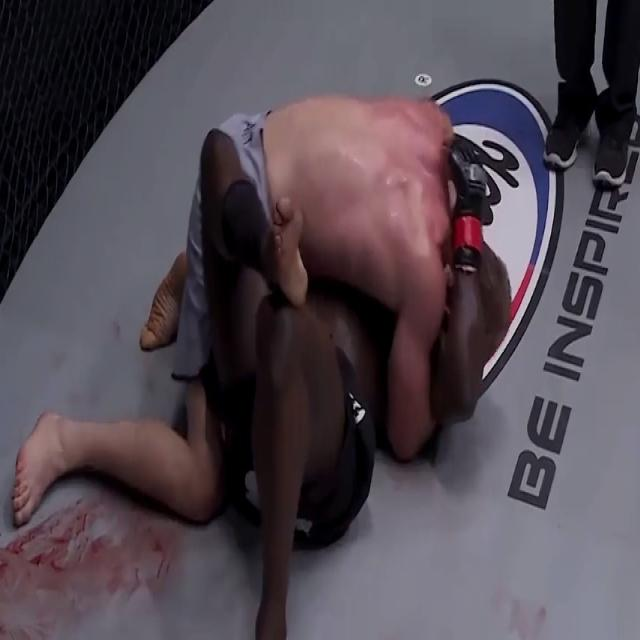fight: (13, 89, 513, 640)
